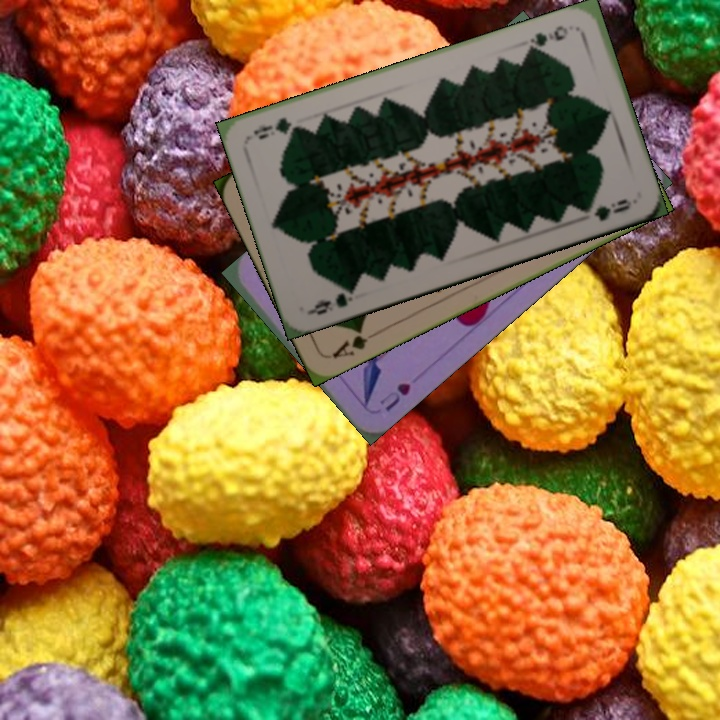G9: (305, 281, 359, 318), (524, 21, 571, 55)
GA: (328, 324, 382, 361)
HU: (375, 378, 414, 414)
